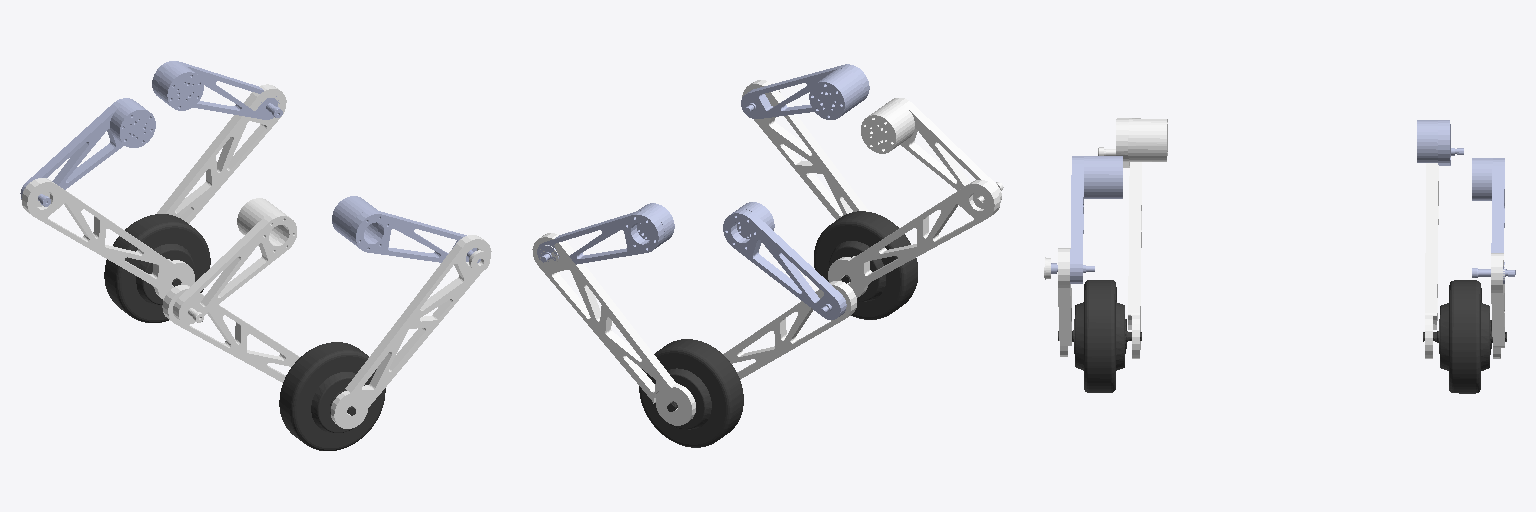
robot.urdf — wheeled_bipedal_robot:
<?xml version="1.0"?>
<!-- This URDF was automatically created by SolidWorks to URDF Exporter! Originally created by Stephen Brawner (brawner@gmail.com) 
     Commit Version: 1.6.0-4-g7f85cfe  Build Version: 1.6.7995.38578
     For more information, please see http://wiki.ros.org/sw_urdf_exporter -->
<robot name="wheeled_bipedal_robot" xmlns:xacro="http://www.ros.org/wiki/xacro">
  
  <!-- <link name="world"/>
  <joint name="fixed_to_world" type="fixed">
    <parent link="world"/>
    <child link="base_link"/>
    <origin xyz="0 0 0.5" rpy="0 0 0"/>
  </joint> -->

  <link name="base_footprint"/>
  <joint name="base_footprint_joint" type="fixed">
      <parent link="base_footprint"/>
      <child link="base_link"/>
      <origin xyz="0 0 0" rpy="0 0 0"/>
  </joint>

  <link
    name="base_link">
    <inertial>
      <origin
        xyz="0.0021437 -0.0018095 0.031519"
        rpy="0 0 0" />
      <mass
        value="1.339" />
      <inertia
        ixx="0.031029"
        ixy="0.000278"
        ixz="0.000114"
        iyy="0.017099"
        iyz="-0.00017"
        izz="0.044317" />
    </inertial>
    <visual>
      <origin
        xyz="0 0 0"
        rpy="0 0 0" />
      <geometry>
        <mesh
          filename="package://wheeled_bipedal_description/meshes/base_link.STL" />
      </geometry>
      <material
        name="">
        <color
          rgba="0.79216 0.81961 0.93333 1" />
      </material>
    </visual>
    <collision>
      <origin
        xyz="0 0 0"
        rpy="0 0 0" />
      <geometry>
        <mesh
          filename="package://wheeled_bipedal_description/meshes/base_link.STL" />
      </geometry>
    </collision>
  </link>
  <link
    name="LF_upper_link">
    <inertial>
      <origin
        xyz="0.04809 -0.017442 0.00033347"
        rpy="0 0 0" />
      <mass
        value="0.21238" />
      <inertia
        ixx="0.000116"
        ixy="-0.000106"
        ixz="4E-06"
        iyy="0.000794"
        iyz="1E-06"
        izz="0.000814" />
    </inertial>
    <visual>
      <origin
        xyz="0 0 0"
        rpy="0 0 0" />
      <geometry>
        <mesh
          filename="package://wheeled_bipedal_description/meshes/LF_upper_link.STL" />
      </geometry>
      <material
        name="">
        <color
          rgba="0.79216 0.81961 0.93333 1" />
      </material>
    </visual>
    <collision>
      <origin
        xyz="0 0 0"
        rpy="0 0 0" />
      <geometry>
        <mesh
          filename="package://wheeled_bipedal_description/meshes/LF_upper_link.STL" />
      </geometry>
    </collision>
  </link>
  <joint name="LF_hip_joint" type="revolute">
    <origin xyz="0.057024 0.25604 0.053" rpy="0 0.43149 -0.011811" />
    <parent link="base_link" />
    <child link="LF_upper_link" />
    <axis xyz="0 1 0" />
    <limit lower="-2.0" upper="1.57" effort="10.0" velocity="10.0"/>
    <dynamics damping="0.05" friction="0.001"/>
  </joint>
  <link
    name="LF_lower_link">
    <inertial>
      <origin
        xyz="0.1231 -0.0078704 -0.00048416"
        rpy="0 0 0" />
      <mass
        value="0.2511" />
      <inertia
        ixx="5.8E-05"
        ixy="1.7E-05"
        ixz="-1E-05"
        iyy="0.002071"
        iyz="0"
        izz="0.002022" />
    </inertial>
    <visual>
      <origin
        xyz="0 0 0"
        rpy="0 0 0" />
      <geometry>
        <mesh
          filename="package://wheeled_bipedal_description/meshes/LF_lower_link.STL" />
      </geometry>
      <material
        name="">
        <color
          rgba="1 1 1 1" />
      </material>
    </visual>
    <collision>
      <origin
        xyz="0 0 0"
        rpy="0 0 0" />
      <geometry>
        <mesh
          filename="package://wheeled_bipedal_description/meshes/LF_lower_link.STL" />
      </geometry>
    </collision>
  </link>
  <joint name="LF_knee_joint" type="continuous">
    <origin xyz="0.15 0.015 0" rpy="-3.1416 1.1851 -3.1416" />
    <parent link="LF_upper_link" />
    <child link="LF_lower_link" />
    <axis xyz="0 1 0" />
    <dynamics damping="0.05" friction="0.001"/>
  </joint>
  <link
    name="left_wheel_link">
    <inertial>
      <origin
        xyz="-2E-06 3E-06 0"
        rpy="0 0 0" />
      <mass
        value="0.85254" />
      <inertia
        ixx="0.001074"
        ixy="0"
        ixz="0"
        iyy="0.001774"
        iyz="0"
        izz="0.001074" />
    </inertial>
    <visual>
      <origin
        xyz="0 0 0"
        rpy="0 0 0" />
      <geometry>
        <mesh
          filename="package://wheeled_bipedal_description/meshes/left_wheel_link.STL" />
      </geometry>
      <material
        name="">
        <color
          rgba="0.29804 0.29804 0.29804 1" />
      </material>
    </visual>
    <collision>
      <origin
        xyz="0 0 0"
        rpy="0 0 0" />
      <geometry>
        <mesh
          filename="package://wheeled_bipedal_description/meshes/left_wheel_link.STL" />
      </geometry>
    </collision>
  </link>
  <joint name="left_wheel_joint" type="continuous">
    <origin xyz="0.249998873591879 -0.0491030149636819 0" rpy="-3.13051030477686 -0.753563717743009 3.1253968717351" />
    <parent link="LF_lower_link" />
    <child link="left_wheel_link" />
    <axis xyz="0.0118103395321176 0.999930255507921 0" />
    <dynamics damping="0.05" friction="0.001"/>
    <limit effort="10.0" velocity="20.0"/>
  </joint>
  <link
    name="LR_upper_link">
    <inertial>
      <origin
        xyz="0.051202 -0.01272 -0.00035505"
        rpy="0 0 0" />
      <mass
        value="0.19947" />
      <inertia
        ixx="6.3E-05"
        ixy="-4.9E-05"
        ixz="-5E-06"
        iyy="0.000751"
        iyz="0"
        izz="0.00073" />
    </inertial>
    <visual>
      <origin
        xyz="0 0 0"
        rpy="0 0 0" />
      <geometry>
        <mesh
          filename="package://wheeled_bipedal_description/meshes/LR_upper_link.STL" />
      </geometry>
      <material
        name="">
        <color
          rgba="0.79216 0.81961 0.93333 1" />
      </material>
    </visual>
    <collision>
      <origin
        xyz="0 0 0"
        rpy="0 0 0" />
      <geometry>
        <mesh
          filename="package://wheeled_bipedal_description/meshes/LR_upper_link.STL" />
      </geometry>
    </collision>
  </link>
  <joint name="LR_hip_joint" type="revolute">
    <origin xyz="-0.051597 0.20412 0.053" rpy="-3.1416 0.51685 3.1298" />
    <parent link="base_link" />
    <child link="LR_upper_link" />
    <axis xyz="0 1 0" />
    <limit lower="-0.9" upper="2.089" effort="10.0" velocity="10.0"/>
    <dynamics damping="0.05" friction="0.001"/>
  </joint>
  <link
    name="LR_lower_link">
    <inertial>
      <origin
        xyz="0.12012 0.0077944 -0.00049441"
        rpy="0 0 0" />
      <mass
        value="0.24589" />
      <inertia
        ixx="5.6E-05"
        ixy="-1.4E-05"
        ixz="-1E-05"
        iyy="0.001963"
        iyz="0"
        izz="0.001916" />
    </inertial>
    <visual>
      <origin
        xyz="0 0 0"
        rpy="0 0 0" />
      <geometry>
        <mesh
          filename="package://wheeled_bipedal_description/meshes/LR_lower_link.STL" />
      </geometry>
      <material
        name="">
        <color
          rgba="1 1 1 1" />
      </material>
    </visual>
    <collision>
      <origin
        xyz="0 0 0"
        rpy="0 0 0" />
      <geometry>
        <mesh
          filename="package://wheeled_bipedal_description/meshes/LR_lower_link.STL" />
      </geometry>
    </collision>
  </link>
  <joint name="LR_knee_joint" type="continuous">
    <origin xyz="0.149999999999806 -0.0300000000000002 0" rpy="3.14159265357704 -1.20970432068389 -3.1415926535845" />
    <parent link="LR_upper_link" />
    <child link="LR_lower_link" />
    <axis xyz="0 1 0" />
    <dynamics damping="0.05" friction="0.001"/>
  </joint>
  <link
    name="RF_upper_link">
    <inertial>
      <origin
        xyz="0.04809 0.017442 0.00033347"
        rpy="0 0 0" />
      <mass
        value="0.21238" />
      <inertia
        ixx="0.000116"
        ixy="0.000106"
        ixz="4E-06"
        iyy="0.000794"
        iyz="1E-06"
        izz="0.000814" />
    </inertial>
    <visual>
      <origin
        xyz="0 0 0"
        rpy="0 0 0" />
      <geometry>
        <mesh
          filename="package://wheeled_bipedal_description/meshes/RF_upper_link.STL" />
      </geometry>
      <material
        name="">
        <color
          rgba="0.79216 0.81961 0.93333 1" />
      </material>
    </visual>
    <collision>
      <origin
        xyz="0 0 0"
        rpy="0 0 0" />
      <geometry>
        <mesh
          filename="package://wheeled_bipedal_description/meshes/RF_upper_link.STL" />
      </geometry>
    </collision>
  </link>
  <joint name="RF_hip_joint" type="revolute">
    <origin xyz="0.05096 -0.25732 0.053" rpy="0 0.40442 -0.011811" />
    <parent link="base_link" />
    <child link="RF_upper_link" />
    <axis xyz="0 1 0" />
    <limit lower="-2.0" upper="1.57" effort="10.0" velocity="10.0"/>
    <dynamics damping="0.05" friction="0.001"/>
  </joint>
  <link
    name="RF_lower_link">
    <inertial>
      <origin
        xyz="0.1231 0.0078704 -0.00048416"
        rpy="0 0 0" />
      <mass
        value="0.2511" />
      <inertia
        ixx="5.8E-05"
        ixy="-1.7E-05"
        ixz="-1E-05"
        iyy="0.002071"
        iyz="0"
        izz="0.002022" />
    </inertial>
    <visual>
      <origin
        xyz="0 0 0"
        rpy="0 0 0" />
      <geometry>
        <mesh
          filename="package://wheeled_bipedal_description/meshes/RF_lower_link.STL" />
      </geometry>
      <material
        name="">
        <color
          rgba="1 1 1 1" />
      </material>
    </visual>
    <collision>
      <origin
        xyz="0 0 0"
        rpy="0 0 0" />
      <geometry>
        <mesh
          filename="package://wheeled_bipedal_description/meshes/RF_lower_link.STL" />
      </geometry>
    </collision>
  </link>
  <joint name="RF_knee_joint" type="continuous">
    <origin xyz="0.149999999999924 -0.0149999999999972 0" rpy="-3.14159265353526 1.17572223524246 -3.14159265353876" />
    <parent link="RF_upper_link" />
    <child link="RF_lower_link" />
    <axis xyz="0 1 0" />
    <dynamics damping="0.05" friction="0.001"/>
  </joint>
  <link
    name="right_wheel_link">
    <inertial>
      <origin
        xyz="-1E-06 -1E-06 0"
        rpy="0 0 0" />
      <mass
        value="0.85254" />
      <inertia
        ixx="0.0010739"
        ixy="8E-06"
        ixz="0"
        iyy="0.0017744"
        iyz="0"
        izz="0.0010738" />
    </inertial>
    <visual>
      <origin
        xyz="0 0 0"
        rpy="0 0 0" />
      <geometry>
        <mesh
          filename="package://wheeled_bipedal_description/meshes/right_wheel_link.STL" />
      </geometry>
      <material
        name="">
        <color
          rgba="0.29804 0.29804 0.29804 1" />
      </material>
    </visual>
    <collision>
      <origin
        xyz="0 0 0"
        rpy="0 0 0" />
      <geometry>
        <mesh
          filename="package://wheeled_bipedal_description/meshes/right_wheel_link.STL" />
      </geometry>
    </collision>
  </link>
  <joint name="right_wheel_joint" type="continuous">
    <origin xyz="0.249999235453996 0.0491014228925789 0" rpy="-3.1301112502539 -0.771230823255971 3.12512125115761" />
    <parent link="RF_lower_link" />
    <child link="right_wheel_link" />
    <axis xyz="0.0118103395321099 0.999930255507921 0" />
    <dynamics damping="0.05" friction="0.001"/>
    <limit effort="10.0" velocity="20.0"/>
  </joint>
  <link
    name="RR_upper_link">
    <inertial>
      <origin
        xyz="0.051202 0.01272 -0.000355"
        rpy="0 0 0" />
      <mass
        value="0.199469" />
      <inertia
        ixx="6.3E-05"
        ixy="4.9E-05"
        ixz="-5E-06"
        iyy="0.000751"
        iyz="0"
        izz="0.00073" />
    </inertial>
    <visual>
      <origin
        xyz="0 0 0"
        rpy="0 0 0" />
      <geometry>
        <mesh
          filename="package://wheeled_bipedal_description/meshes/RR_upper_link.STL" />
      </geometry>
      <material
        name="">
        <color
          rgba="1 1 1 1" />
      </material>
    </visual>
    <collision>
      <origin
        xyz="0 0 0"
        rpy="0 0 0" />
      <geometry>
        <mesh
          filename="package://wheeled_bipedal_description/meshes/RR_upper_link.STL" />
      </geometry>
    </collision>
  </link>
  <joint name="RR_hip_joint" type="revolute">
    <origin xyz="-0.0564037489137038 -0.202850608084869 0.0529999999998718" rpy="-3.14159265358979 0.540465075056446 3.12978203948131" />
    <parent link="base_link" />
    <child link="RR_upper_link" />
    <axis xyz="0 1 0" />
    <limit lower="-0.9" upper="2.089" effort="10.0" velocity="10.0"/>
    <dynamics damping="0.05" friction="0.001"/>
  </joint>
  <link
    name="RR_lower_link">
    <inertial>
      <origin
        xyz="0.12012 -0.0077944 -0.00049441"
        rpy="0 0 0" />
      <mass
        value="0.24589" />
      <inertia
        ixx="5.6E-05"
        ixy="1.4E-05"
        ixz="-1E-05"
        iyy="0.001963"
        iyz="0"
        izz="0.001916" />
    </inertial>
    <visual>
      <origin
        xyz="0 0 0"
        rpy="0 0 0" />
      <geometry>
        <mesh
          filename="package://wheeled_bipedal_description/meshes/RR_lower_link.STL" />
      </geometry>
      <material
        name="">
        <color
          rgba="1 1 1 1" />
      </material>
    </visual>
    <collision>
      <origin
        xyz="0 0 0"
        rpy="0 0 0" />
      <geometry>
        <mesh
          filename="package://wheeled_bipedal_description/meshes/RR_lower_link.STL" />
      </geometry>
    </collision>
  </link>
  <joint name="RR_knee_joint" type="continuous">
    <origin xyz="0.14999999999987 0.03 0" rpy="-3.14159265357348 -1.21487868120374 3.14159265357644" />
    <parent link="RR_upper_link" />
    <child link="RR_lower_link" />
    <axis xyz="0 1 0" />
    <dynamics damping="0.05" friction="0.001"/>
  </joint>

  <gazebo>
      <joint name='LR_WheelJointFixed' type='revolute'>
        <pose relative_to='LR_lower_link'>0.25 0.049097 0 -0.009804 -0.6928 0.015349</pose>
        <parent>LR_lower_link</parent>
        <child>left_wheel_link</child>
        <axis>
          <xyz>-0.01181 -0.99993 0</xyz>
          <!-- <limit>
            <lower>-3.14</lower>
            <upper>3.14</upper>
            <effort>20</effort>
            <velocity>30</velocity>
          </limit> -->
        </axis>
        <dynamic>
          <damping>0.05</damping>
          <friction>0.001</friction>
        </dynamic>
      </joint>
  </gazebo>

  <gazebo>
      <joint name='RR_WheelJointFixed' type='revolute'>
        <pose relative_to='RR_lower_link'>0.25 -0.049099 0 -0.0094417 -0.67436 0.015121</pose>
        <parent>RR_lower_link</parent>
        <child>right_wheel_link</child>
        <axis>
          <xyz>-0.01181 -0.99993 0</xyz>
          <!-- <limit>
            <lower>-3.14</lower>
            <upper>3.14</upper>
            <effort>20</effort>
            <velocity>30</velocity>
          </limit> -->
        </axis>
        <dynamic>
          <damping>0.05</damping>
          <friction>0.001</friction>
        </dynamic>
      </joint>
  </gazebo>

  <gazebo>
    <plugin name="gazebo_ros_joint_state_publisher" filename="libgazebo_ros_joint_state_publisher.so">
      <!-- 此处发布 joint_state_broadcaster/JointStateBroadcaster 不发布的tf，用作rviz可视化 -->
      <ros>
        <namespace>/</namespace>
        <argument>joint_states:=joint_states</argument>
      </ros>
      <update_rate>30</update_rate>
      <!-- <joint_name>LF_hip_joint</joint_name> -->
      <joint_name>LF_knee_joint</joint_name>
      <!-- <joint_name>left_wheel_joint</joint_name> -->
      <!-- <joint_name>LR_hip_joint</joint_name> -->
      <joint_name>LR_knee_joint</joint_name>
      <!-- <joint_name>RF_hip_joint</joint_name> -->
      <joint_name>RF_knee_joint</joint_name>
      <!-- <joint_name>right_wheel_joint</joint_name> -->
      <!-- <joint_name>RR_hip_joint</joint_name> -->
      <joint_name>RR_knee_joint</joint_name>
      <joint_name>LR_WheelJointFixed</joint_name>
      <joint_name>RR_WheelJointFixed</joint_name>
    </plugin>
  </gazebo>
</robot>

--- What the picture shows (computed from the rendered views, not written in the file) ---
3 views of the same robot in one strip: view 1: azimuth 30°, elevation 25°; view 2: azimuth 150°, elevation 25°; view 3: azimuth 270°, elevation 25° (orthographic).
Robot: wheeled_bipedal_robot — 12 links, 11 joints (4 revolute, 6 continuous, 1 fixed); root link base_footprint; default pose: every joint at zero.
Visible links, largest first — view 1: RF_lower_link, right_wheel_link, left_wheel_link, RR_upper_link, LR_lower_link, LF_lower_link, LR_upper_link, RF_upper_link, LF_upper_link, RR_lower_link; view 2: LF_lower_link, left_wheel_link, right_wheel_link, RR_lower_link, LR_upper_link, RR_upper_link, RF_lower_link, RF_upper_link, LF_upper_link, LR_lower_link; view 3: left_wheel_link, right_wheel_link, RF_upper_link, RR_upper_link, RR_lower_link, LR_lower_link, LF_upper_link, LR_upper_link, RF_lower_link, LF_lower_link.
Link boxes in pixels (x1=…): RF_lower_link: x1=331, y1=235, x2=491, y2=428; right_wheel_link: x1=279, y1=342, x2=385, y2=450; left_wheel_link: x1=104, y1=214, x2=210, y2=322; RR_upper_link: x1=173, y1=198, x2=296, y2=324; LR_lower_link: x1=21, y1=178, x2=194, y2=299; LF_lower_link: x1=157, y1=84, x2=286, y2=223; LR_upper_link: x1=20, y1=98, x2=155, y2=206; RF_upper_link: x1=332, y1=196, x2=480, y2=262; LF_upper_link: x1=152, y1=61, x2=282, y2=119; RR_lower_link: x1=162, y1=285, x2=299, y2=382; LF_lower_link: x1=532, y1=233, x2=695, y2=425; left_wheel_link: x1=639, y1=339, x2=743, y2=447; right_wheel_link: x1=814, y1=211, x2=917, y2=319; RR_lower_link: x1=828, y1=180, x2=1000, y2=297; LR_upper_link: x1=723, y1=202, x2=846, y2=319; RR_upper_link: x1=861, y1=98, x2=1003, y2=204; RF_lower_link: x1=742, y1=80, x2=868, y2=219; RF_upper_link: x1=741, y1=64, x2=869, y2=119; LF_upper_link: x1=537, y1=203, x2=674, y2=264; LR_lower_link: x1=723, y1=281, x2=856, y2=379; left_wheel_link: x1=1423, y1=280, x2=1506, y2=393; right_wheel_link: x1=1058, y1=280, x2=1141, y2=392; RF_upper_link: x1=1051, y1=156, x2=1122, y2=283; RR_upper_link: x1=1098, y1=118, x2=1167, y2=167; RR_lower_link: x1=1128, y1=162, x2=1141, y2=358; LR_lower_link: x1=1425, y1=163, x2=1438, y2=358; LF_upper_link: x1=1472, y1=158, x2=1515, y2=283; LR_upper_link: x1=1417, y1=120, x2=1463, y2=165; RF_lower_link: x1=1044, y1=248, x2=1071, y2=356; LF_lower_link: x1=1491, y1=253, x2=1504, y2=358.
Size in the robot's own frame: 0.4281 by 0.5746 by 0.3293 metres.
Meshes: 11 distinct files referenced, 10 mesh visuals loaded (10 binary STL); not drawn: 1 (reference not matched to a file when rendering).
